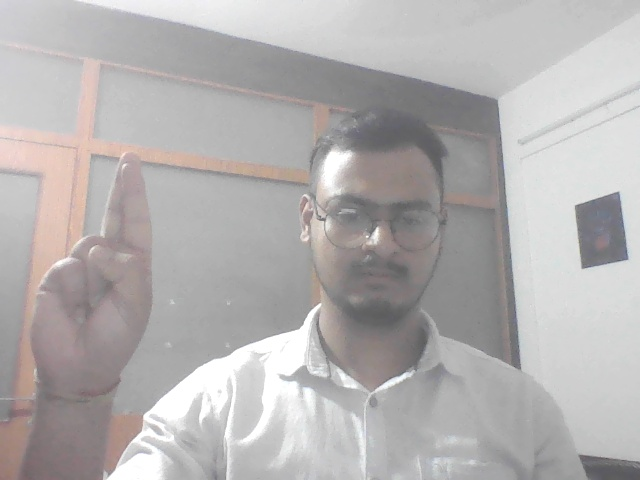GoodLuck: (20, 147, 159, 389)
